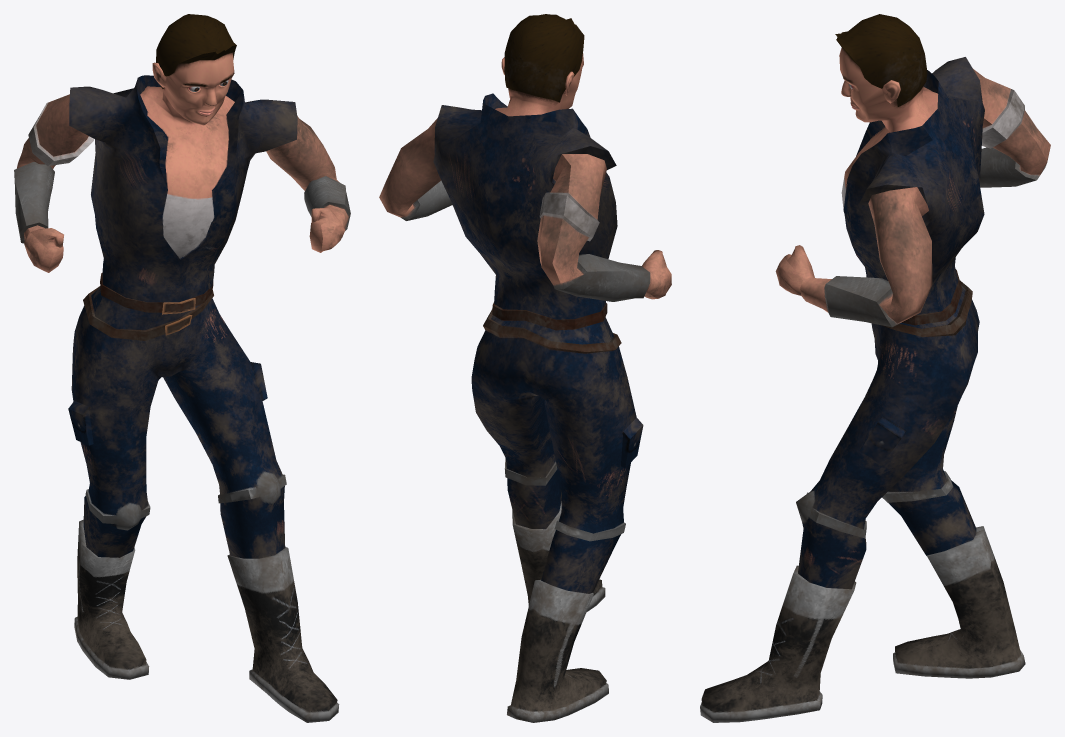
Rendered from Anim_ataque_d1_jugador.0021.obj.
The picture shows the model from 3 angles, left to right: view 1: azimuth 30°, elevation 25°; view 2: azimuth 150°, elevation 25°; view 3: azimuth 270°, elevation 25°; orthographic projection. The views are drawn at different scales.
Parts seen in each view (by area): view 1: polySurface1; view 2: polySurface1; view 3: polySurface1.
Boxes of the visible parts, x1,y1,x2,y2 form: polySurface1: (14,14,350,722); polySurface1: (379,14,671,722); polySurface1: (700,14,1050,722).
Bounding box in the file's own units: 4.41 × 9.3 × 4.38.
